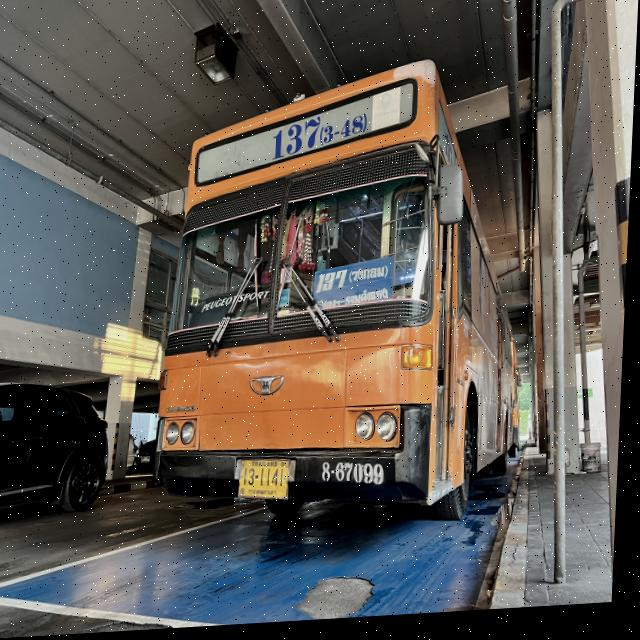BMTA-bus: (159, 66, 522, 528)
Bus Line Number: (269, 101, 370, 168)
Bus Side Number: (323, 461, 394, 493)
Destination Sign: (315, 258, 398, 315)
